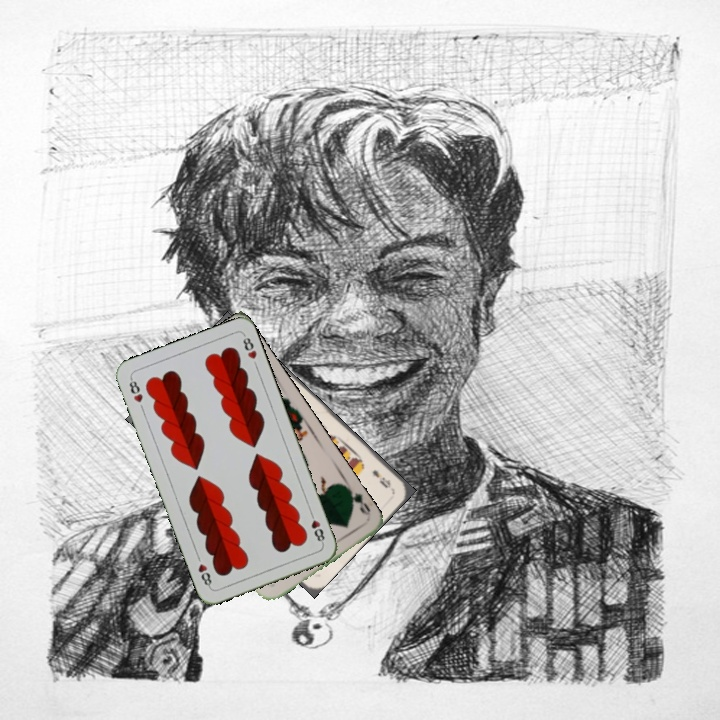E9: (368, 466, 393, 491)
GO: (343, 484, 373, 518)
H8: (306, 507, 327, 547), (125, 374, 145, 405)
